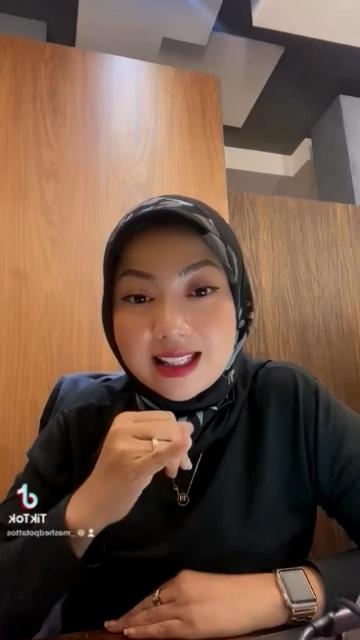J: (87, 408, 203, 504)
